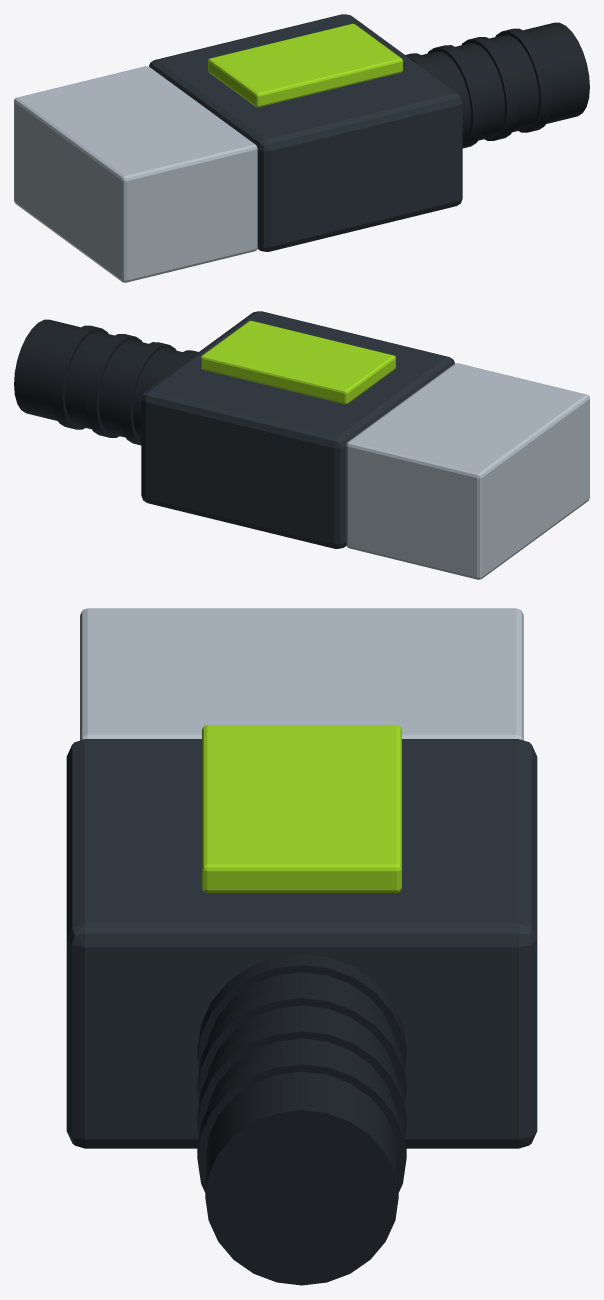
Rendered from SM_Plug_Switch.glb.
The picture shows the model from 3 angles, top to bottom: view 1: azimuth 30°, elevation 25°; view 2: azimuth 150°, elevation 25°; view 3: azimuth 270°, elevation 25°; orthographic projection. The views are drawn at different scales.
Visible parts, largest first — view 1: SM_Plug_Switch; view 2: SM_Plug_Switch; view 3: SM_Plug_Switch.
Boxes of the visible parts, x1,y1,x2,y2 form: SM_Plug_Switch: [14, 14, 589, 282]; SM_Plug_Switch: [14, 311, 589, 579]; SM_Plug_Switch: [66, 608, 537, 1285].
Bounding box in the file's own units: 0.044 × 0.011 × 0.018.
